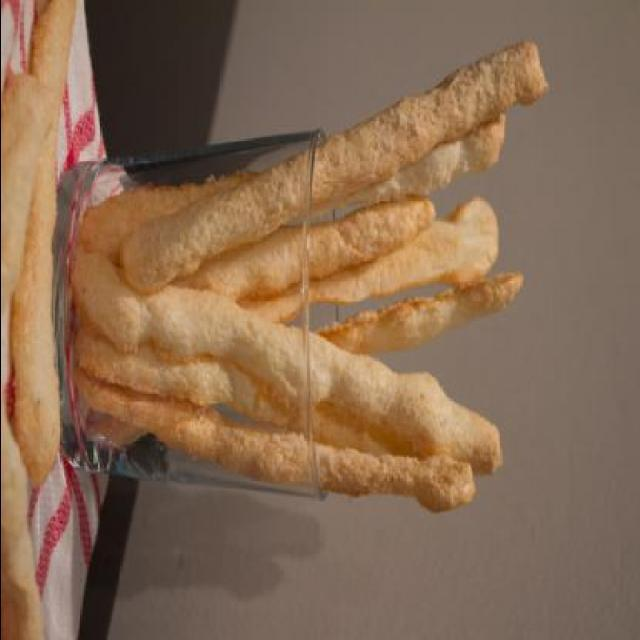Grissini: (84, 50, 550, 512)
